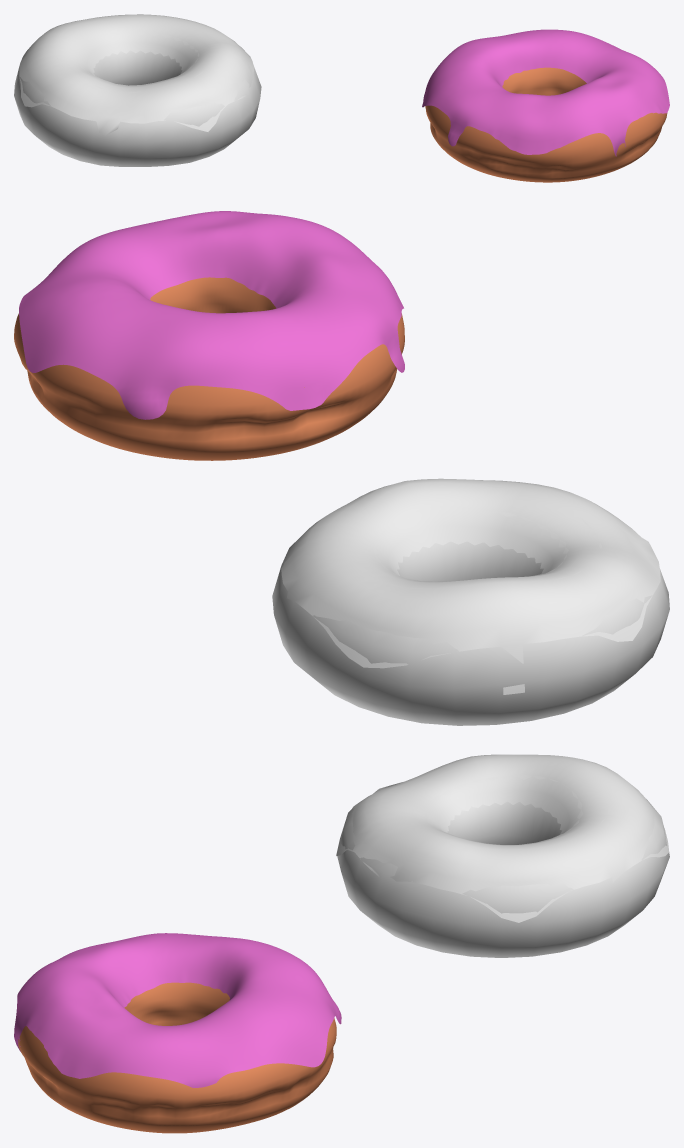
Rendered from animace_test2.glb.
3 views of the same model, one above another, from view 1: azimuth 30°, elevation 25°; view 2: azimuth 150°, elevation 25°; view 3: azimuth 270°, elevation 25° (orthographic). The views are drawn at different scales.
Visible parts, largest first — view 1: icing, icing.001, donut.001, donut; view 2: icing, icing.001, donut.001, donut; view 3: icing, icing.001, donut.001, donut.
Boxes of the visible parts, x1=… form: icing: x1=422, y1=29, x2=669, y2=156; icing.001: x1=19, y1=14, x2=253, y2=135; donut.001: x1=14, y1=18, x2=261, y2=166; donut: x1=425, y1=67, x2=667, y2=182; icing: x1=19, y1=211, x2=404, y2=419; icing.001: x1=281, y1=478, x2=660, y2=694; donut.001: x1=272, y1=485, x2=669, y2=725; donut: x1=14, y1=277, x2=404, y2=460; icing: x1=14, y1=933, x2=341, y2=1087; icing.001: x1=336, y1=754, x2=669, y2=922; donut.001: x1=337, y1=758, x2=669, y2=957; donut: x1=18, y1=982, x2=336, y2=1133.
Size of what is drawn, in the model's own units: 0.3512 by 0.0599 by 0.3031.
